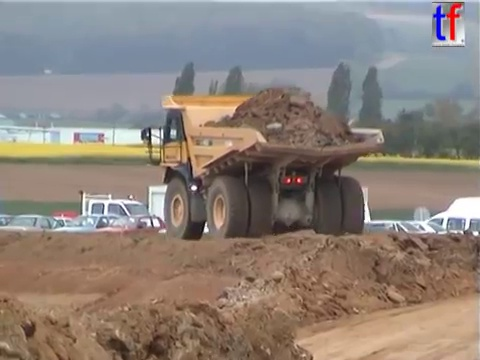truck: (138, 92, 389, 244)
